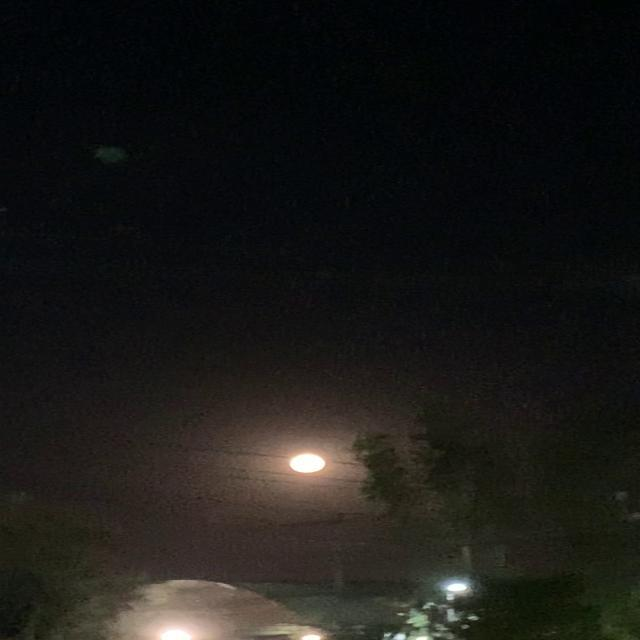moon: (293, 452, 346, 477)
